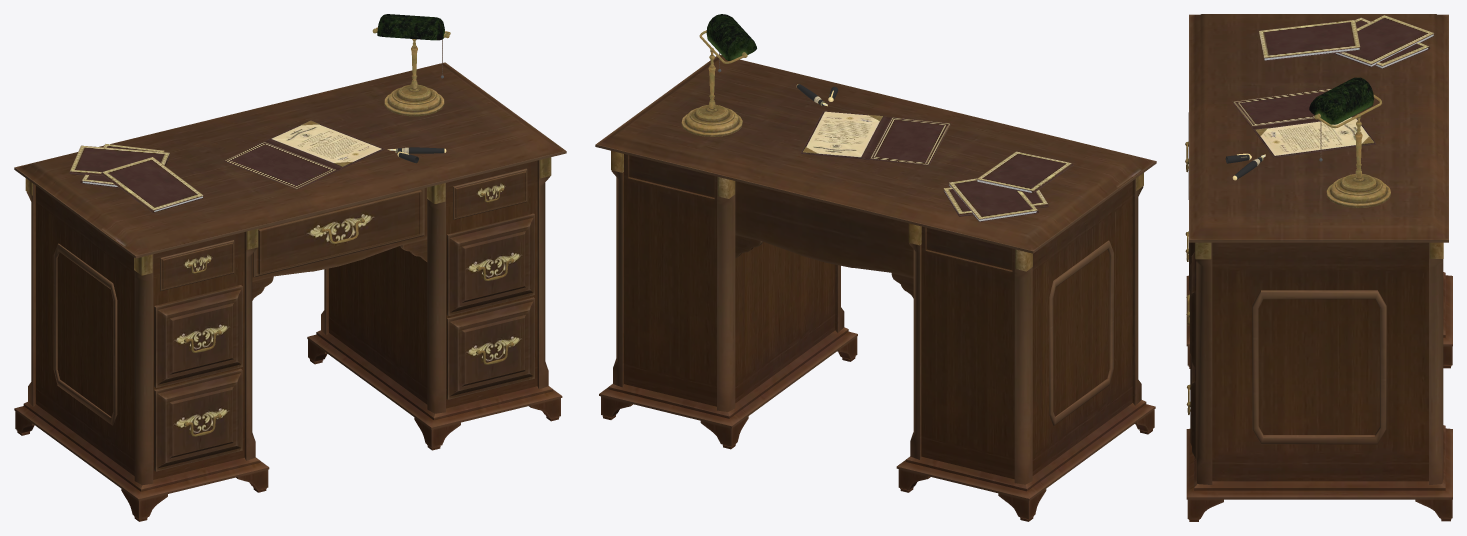
The model's file is Vintage_Desk-transformed.glb.
3 renders of one model, left to right at view 1: azimuth 30°, elevation 25°; view 2: azimuth 150°, elevation 25°; view 3: azimuth 270°, elevation 25°, orthographic. The views are drawn at different scales.
Parts seen in each view (by area): view 1: defaultMaterial (×2); view 2: defaultMaterial (×2); view 3: defaultMaterial (×2).
Part boxes in pixels (x1=…): defaultMaterial (×2): x1=14, y1=14, x2=566, y2=521; defaultMaterial (×2): x1=595, y1=14, x2=1156, y2=521; defaultMaterial (×2): x1=1185, y1=14, x2=1452, y2=521.
Bounding box in the file's own units: 2 × 1.64 × 1.
2 materials, 2 textured.
